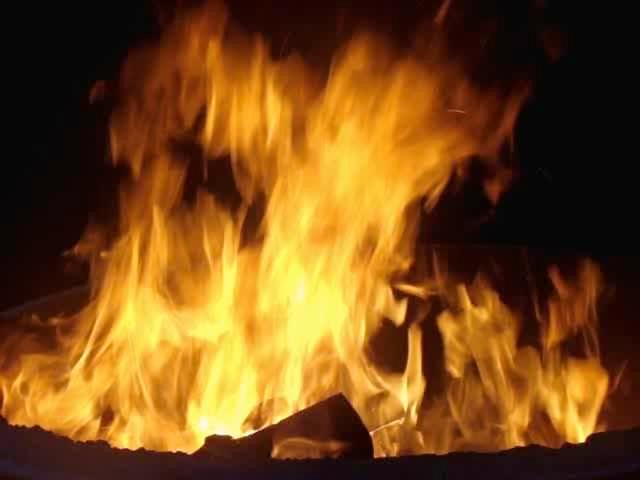fire: (2, 4, 622, 460)
